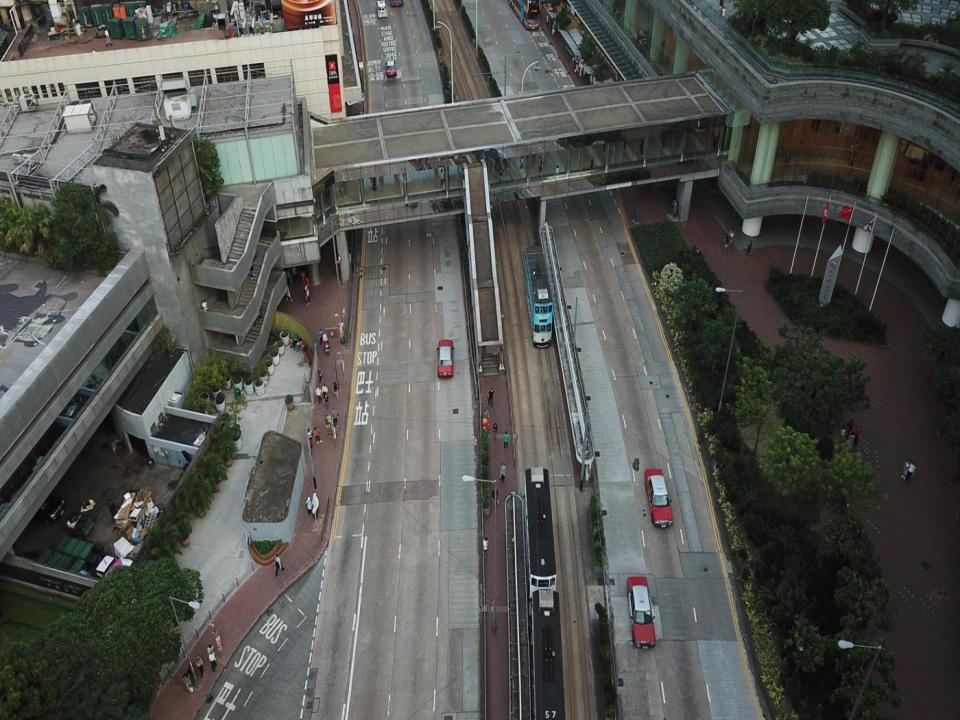bus: (526, 587, 582, 718), (514, 466, 562, 614), (520, 241, 558, 352), (511, 1, 550, 32)
car: (643, 463, 676, 530), (628, 574, 655, 650), (23, 484, 63, 521), (436, 337, 455, 380), (371, 1, 388, 21), (384, 60, 398, 78)
